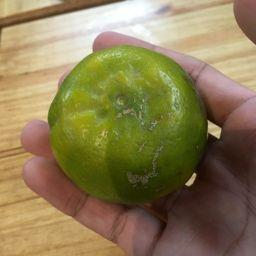Unripe: (51, 47, 211, 199)
